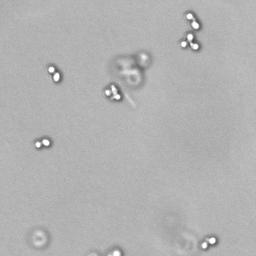budding: (178, 32, 201, 53), (184, 10, 201, 31), (46, 65, 63, 84), (32, 136, 52, 151), (199, 236, 219, 251)
cluster: (103, 83, 124, 103)
